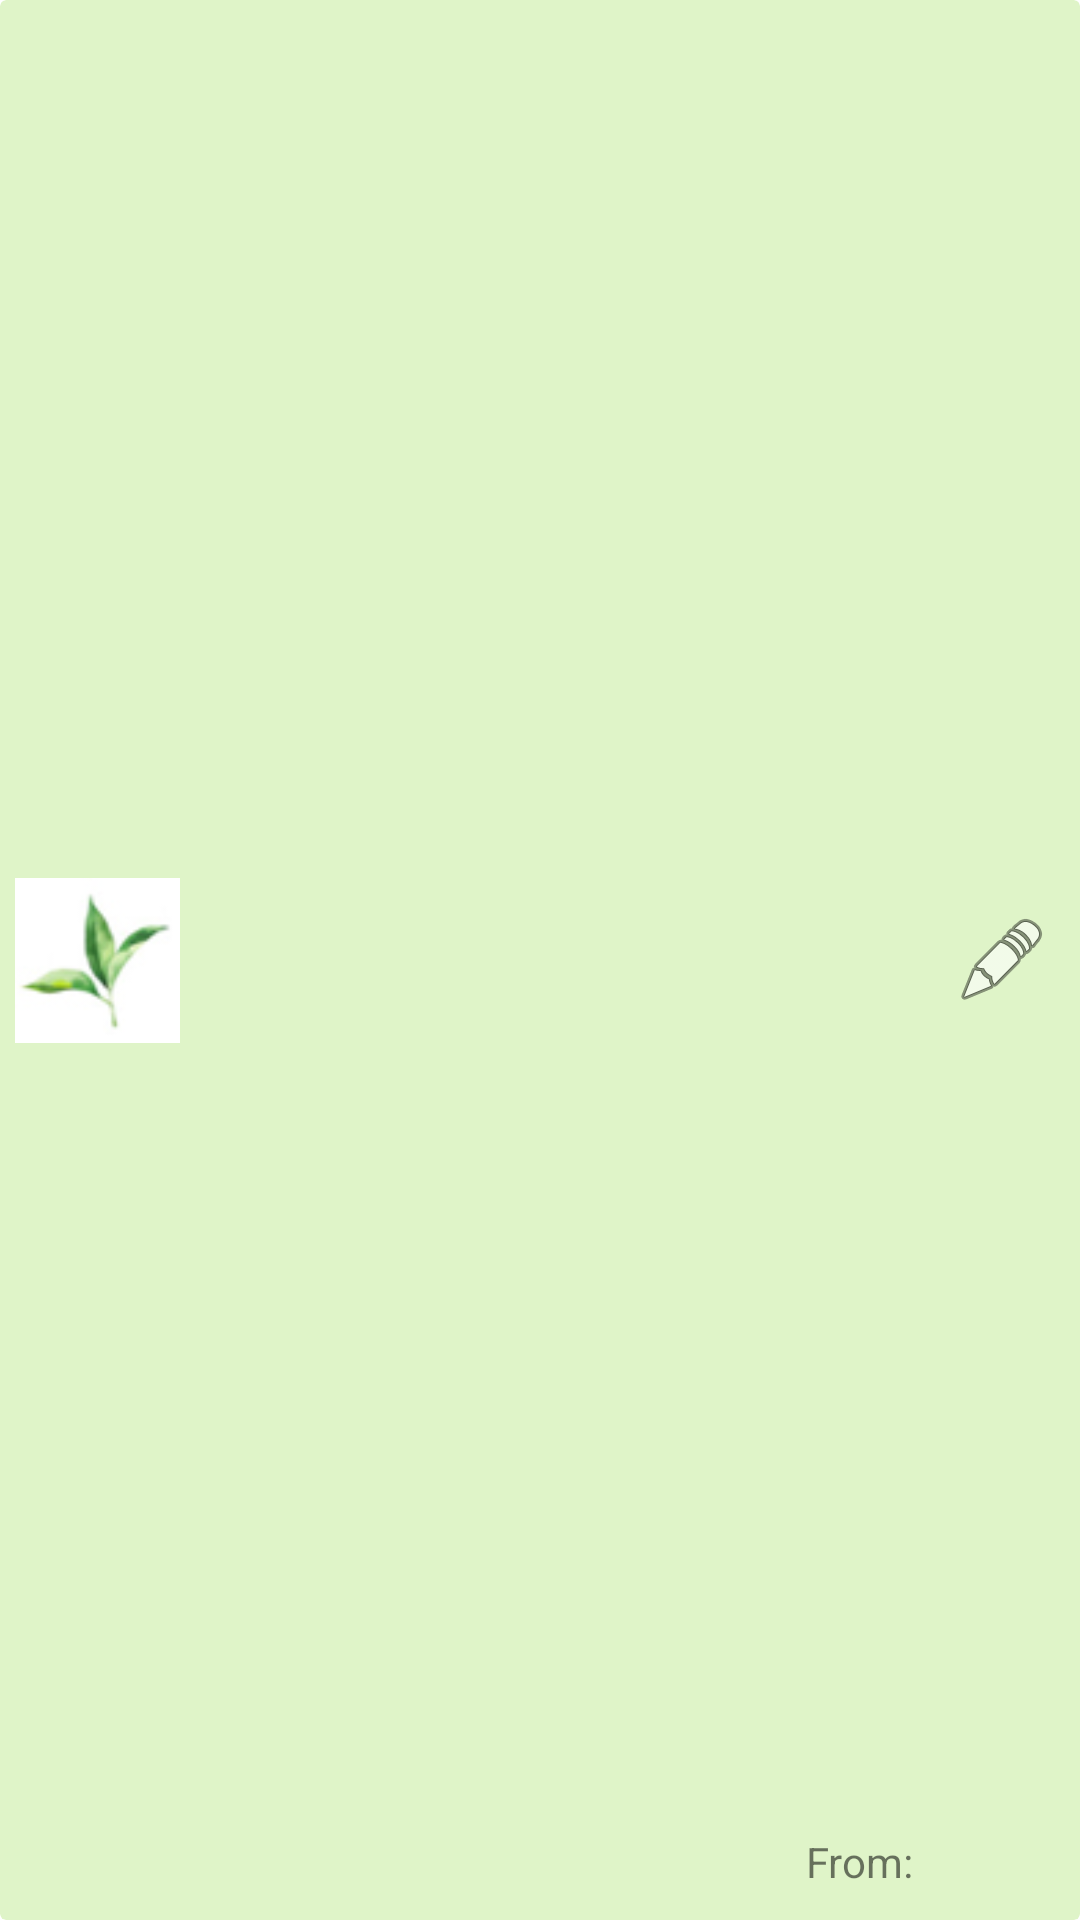

Screen size 1080×1920. Icon name, then its box in pixels as region(x1, y1, x2, y2):
Edit card: region(961, 919, 1042, 1000)
tea: region(15, 878, 180, 1043)
